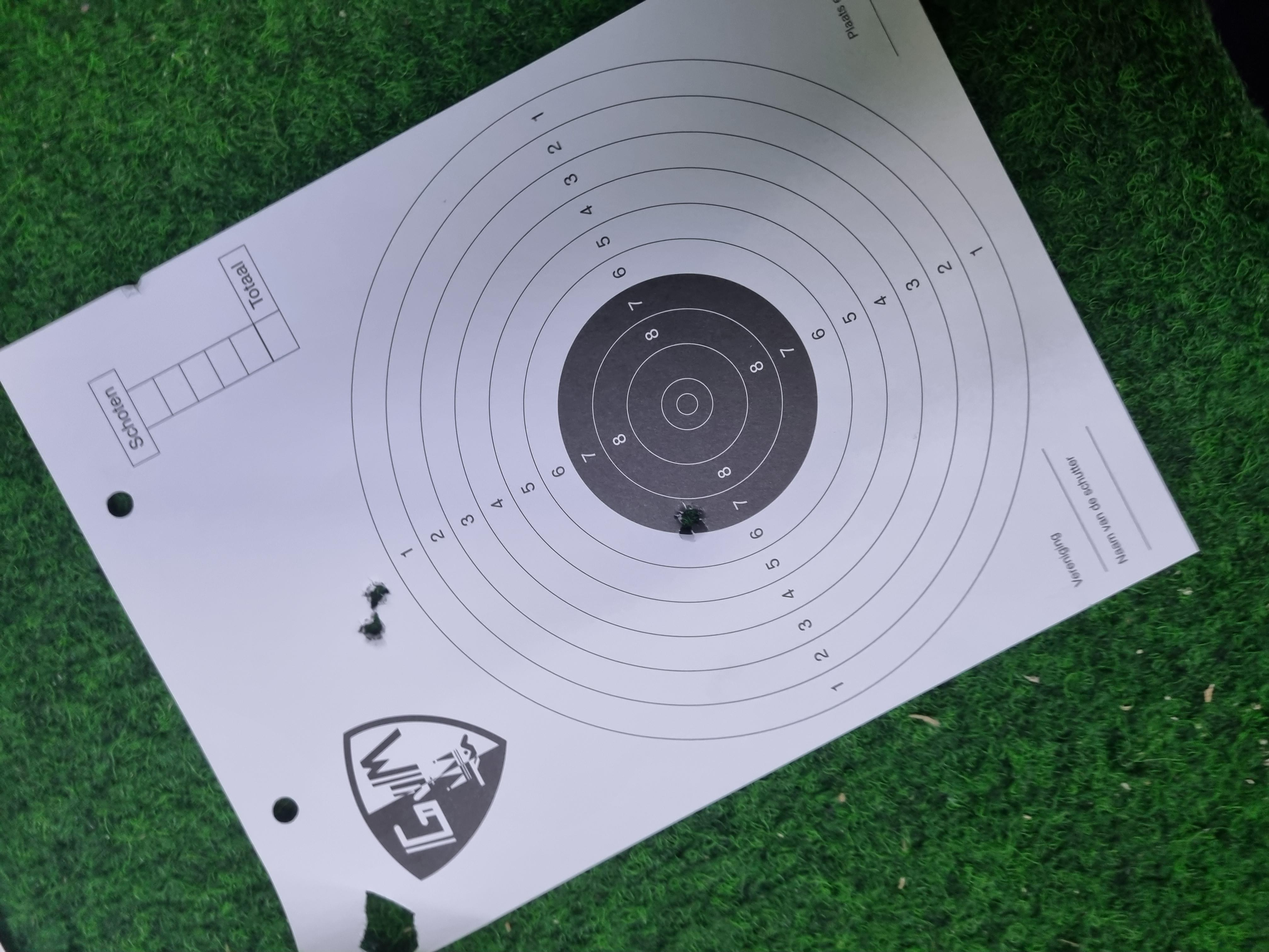hole: (549, 505, 601, 532), (455, 270, 499, 293), (416, 268, 453, 290)
